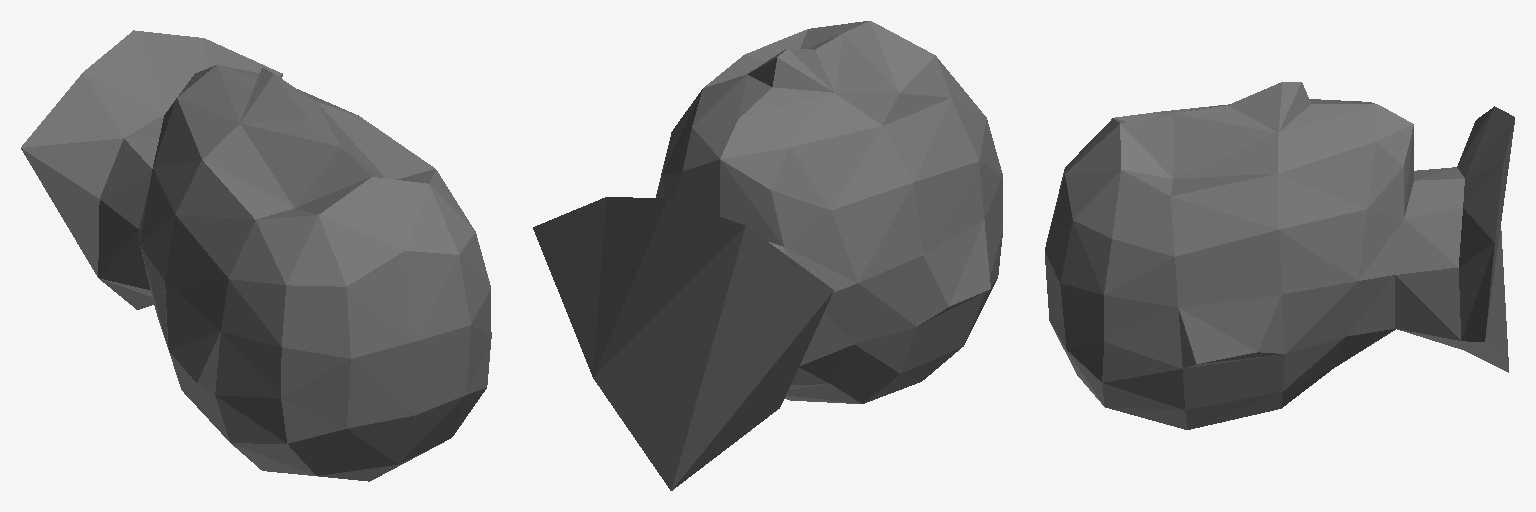
robot.urdf — rayman_head_torso:
<?xml version="1.0" ?>
<robot name="rayman_head_torso" xmlns:xacro="http://www.ros.org/wiki/xacro">
  <material name="skin">
    <color rgba="0.5 0.5 0.5 1."/>
  </material>
  <link name="base_link"/>
  <link name="face">
    <visual>
      <material name="skin"/>
      <origin xyz="0.0 0 0."/>
      <geometry>
        <mesh filename="rayman_meshes/face.stl" scale="1 1 1"/>
      </geometry>
    </visual>
  </link>
  <joint name="base_face" type="floating">
    <parent link="base_link"/>
    <child link="face"/>
    <origin rpy="0 0 0" xyz="0 0 0"/>
  </joint>
  <link name="Perspective_frame"/>
  <joint name="Perspective_fixedjoint" type="fixed">
    <parent link="face"/>
    <child link="Perspective_frame"/>
    <origin rpy="0 0 0" xyz="0 0 0"/>
  </joint>
</robot>

--- Render facts (derived) ---
Views: 3 orthographic renders of the robot side by side, from view 1: azimuth 30°, elevation 25°; view 2: azimuth 150°, elevation 25°; view 3: azimuth 270°, elevation 25°.
Robot: rayman_head_torso — 3 links, 2 joints (1 fixed, 1 floating); root link base_link; default pose: every joint at zero.
Visible links, largest first — view 1: face; view 2: face; view 3: face.
Boxes of the visible links, x1,y1,x2,y2 form: face: (21, 30, 491, 481); face: (533, 21, 1002, 490); face: (1045, 82, 1514, 429).
Bounding box of the posed robot: 0.2016 × 0.3024 × 0.2337 m (x, y, z).
1 mesh visuals loaded from 1 distinct referenced files (1 binary STL).
